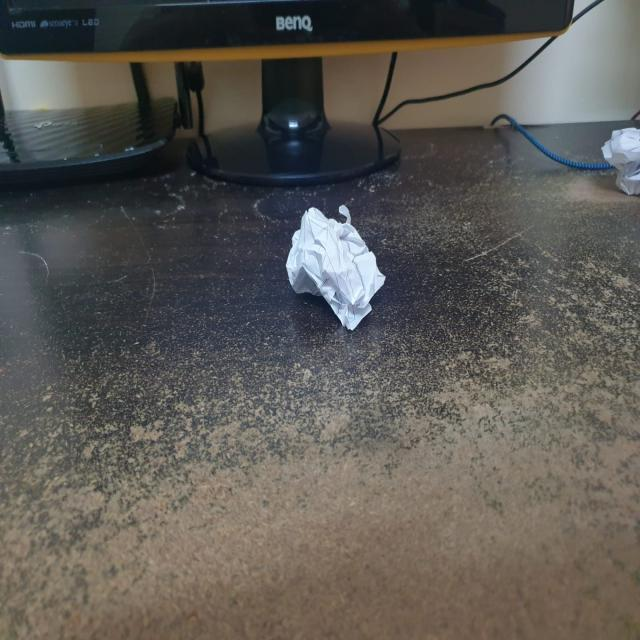Paper: (287, 203, 388, 332)
